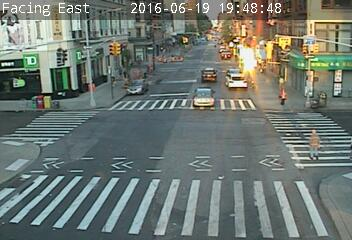neg: (230, 159, 258, 197), (123, 123, 140, 146), (143, 98, 158, 118), (195, 98, 209, 117), (237, 105, 251, 124), (181, 190, 194, 208), (74, 114, 87, 130), (259, 21, 271, 37), (159, 56, 169, 71), (207, 52, 217, 66), (103, 83, 112, 96), (109, 189, 118, 201)
pos: (300, 125, 326, 159), (277, 84, 291, 103)
